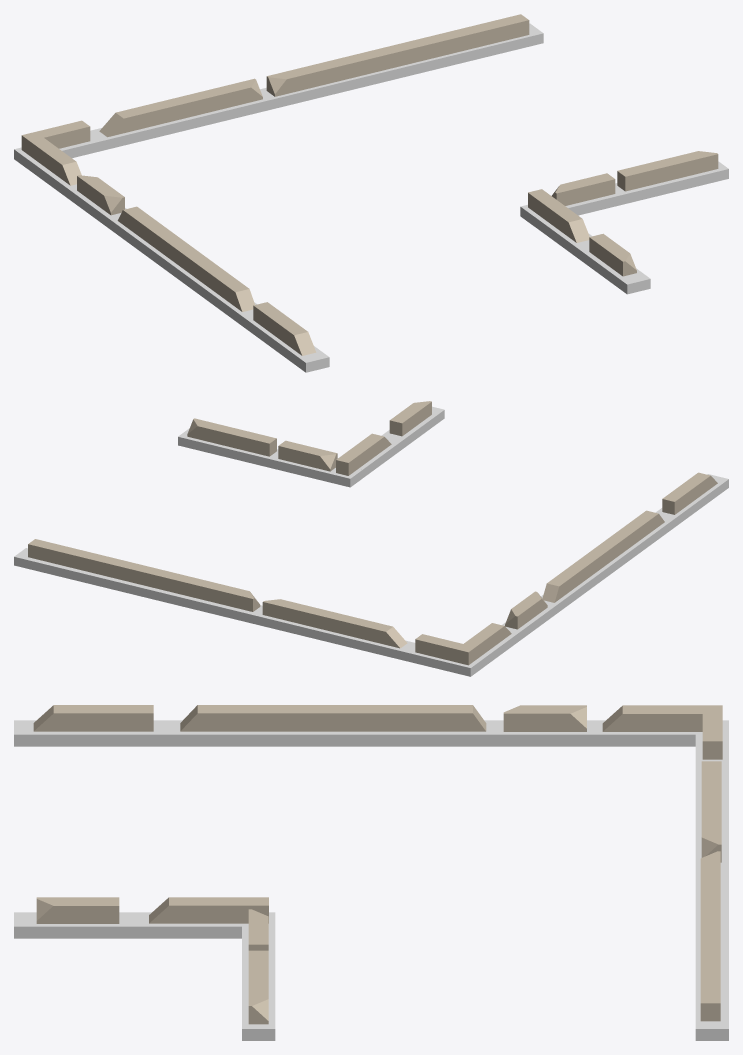
File: RailTaille_Angle_Grand.FBX
3 renders of one model, top to bottom at view 1: azimuth 30°, elevation 25°; view 2: azimuth 150°, elevation 25°; view 3: azimuth 270°, elevation 25°, orthographic. The views are drawn at different scales.
Visible parts, largest first — view 1: Box596, Box598, Box597, Box602, Box599, Box604, Box606, Box605, Box601, Box600, Box594, Box603 (+3 smaller); view 2: Box596, Box598, Box597, Box602, Box599, Box604, Box606, Box605, Box603, Box601, Box594, Box600 (+3 smaller); view 3: Box597, Box602, Box596, Box605, Box598, Box601, Box600, Box594, Box607, Box593, Box604, Box599 (+3 smaller).
Part boxes in pixels (<box>): Box596: <box>14,23,543,168</box>; Box598: <box>266,14,529,96</box>; Box597: <box>27,158,329,372</box>; Box602: <box>117,206,254,311</box>; Box599: <box>99,78,262,137</box>; Box604: <box>520,161,728,225</box>; Box606: <box>617,151,718,191</box>; Box605: <box>534,215,650,294</box>; Box601: <box>253,302,316,355</box>; Box600: <box>528,189,589,242</box>; Box594: <box>21,132,81,185</box>; Box603: <box>552,173,615,205</box>; Box596: <box>14,548,482,676</box>; Box598: <box>28,539,260,611</box>; Box597: <box>479,474,728,667</box>; Box602: <box>542,510,664,602</box>; Box599: <box>262,599,407,648</box>; Box604: <box>178,428,362,487</box>; Box606: <box>187,418,276,456</box>; Box605: <box>358,406,444,478</box>; Box603: <box>278,440,337,471</box>; Box601: <box>662,472,717,514</box>; Box594: <box>456,623,511,665</box>; Box600: <box>336,433,391,475</box>; Box597: <box>14,720,695,746</box>; Box602: <box>180,705,486,731</box>; Box596: <box>695,720,728,1040</box>; Box605: <box>14,912,241,938</box>; Box598: <box>700,851,720,1021</box>; Box601: <box>33,705,153,731</box>; Box600: <box>149,897,268,923</box>; Box594: <box>602,705,722,731</box>; Box607: <box>36,897,119,923</box>; Box593: <box>503,705,586,731</box>; Box604: <box>242,912,275,1040</box>; Box599: <box>701,761,721,862</box>.
Bounding box in the file's own units: 431 × 19.64 × 422.
